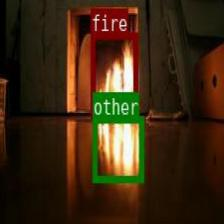fire: (90, 32, 137, 118)
